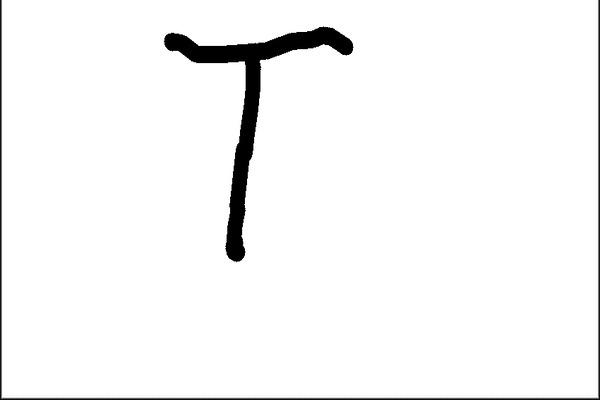T: (156, 17, 355, 261)
